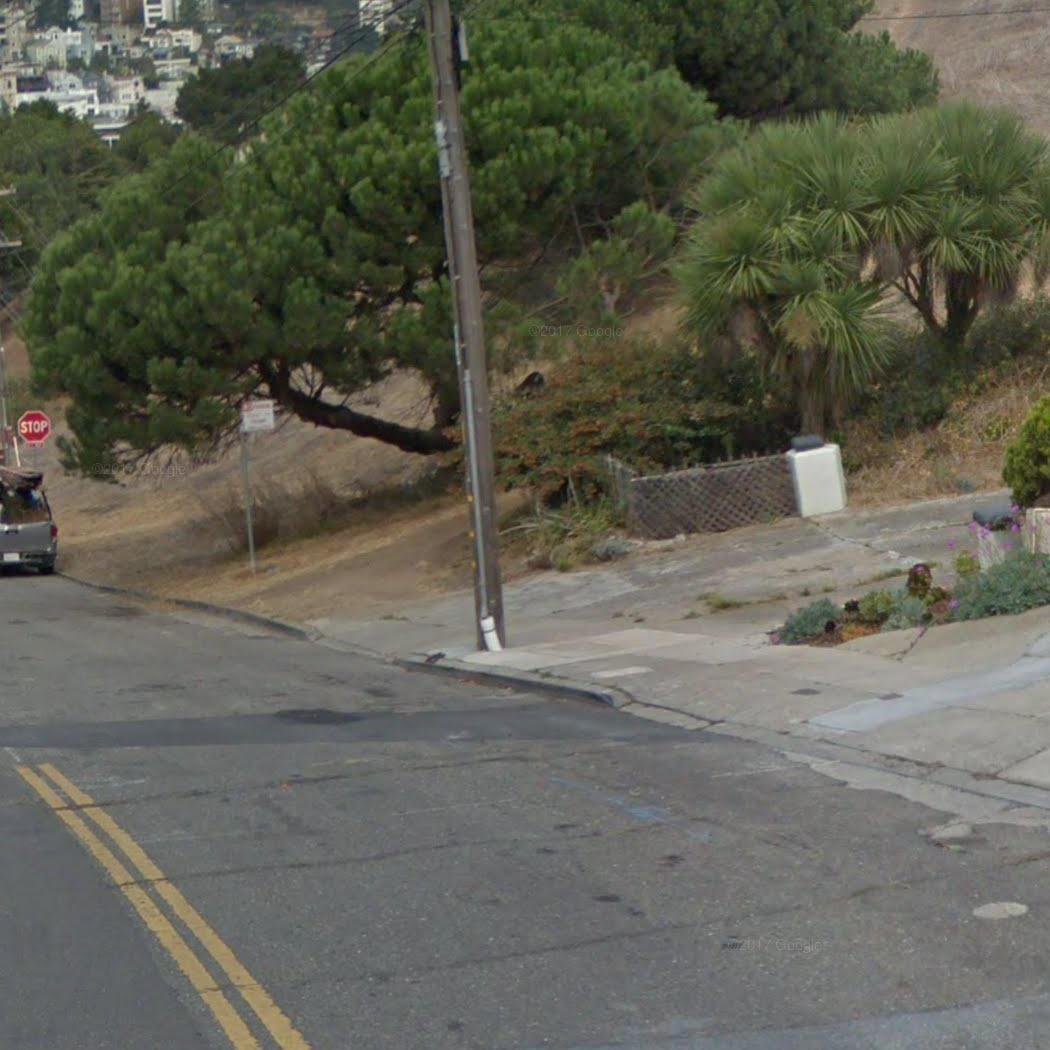No Parking: (237, 398, 276, 432)
